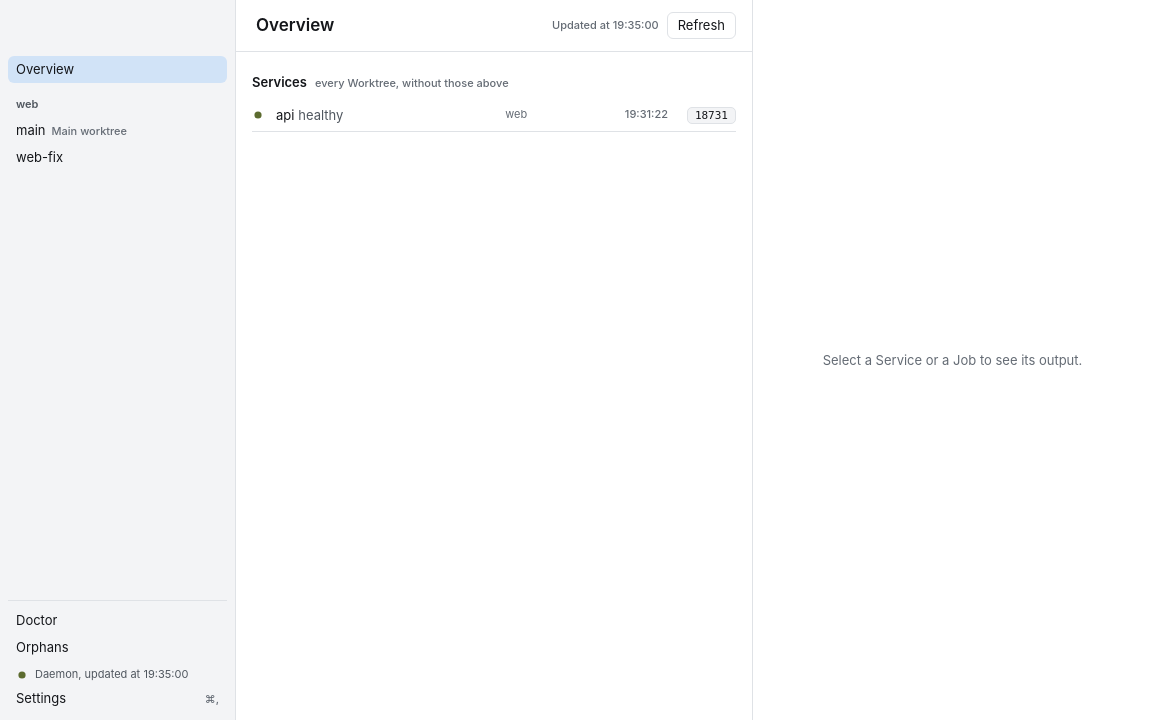
the Orphans screen › shows why the Daemon could not be asked
Click the button "Orphans": point(118, 648) top-left (8, 634), bottom-right (227, 661)
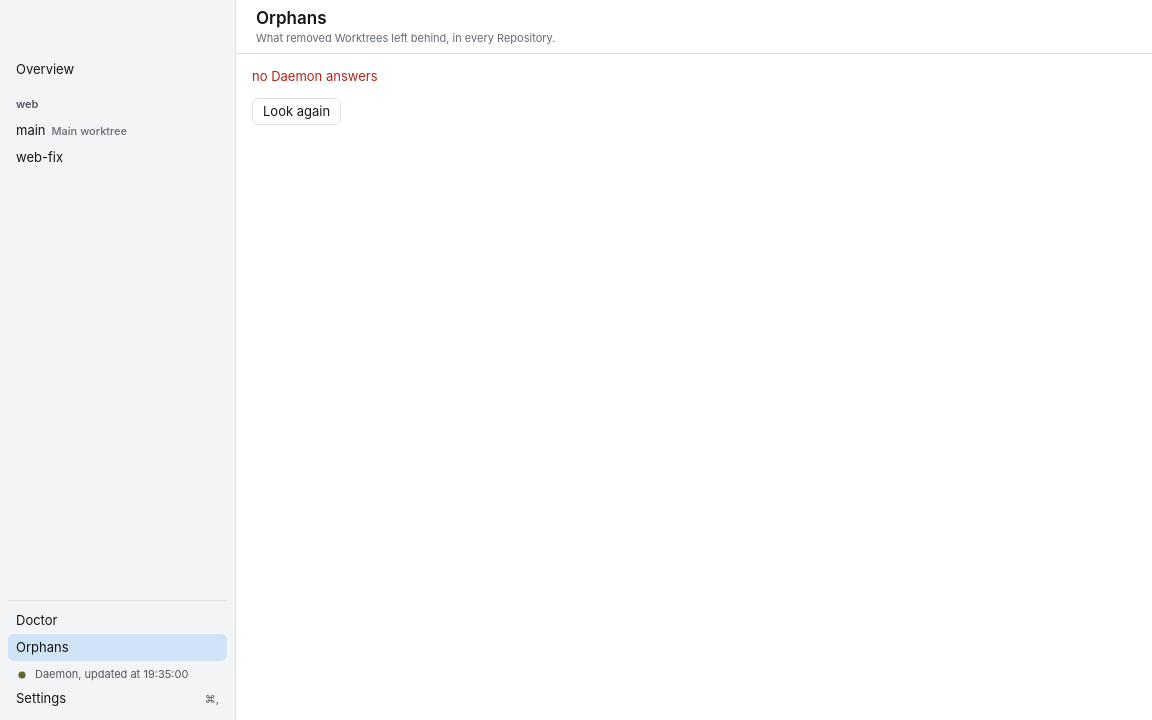
Check: the heading "Orphans" is shown, box top-left (256, 6), bottom-right (326, 31)
Check: the message reads "no Daemon answers", box top-left (252, 68), bottom-right (378, 84)
